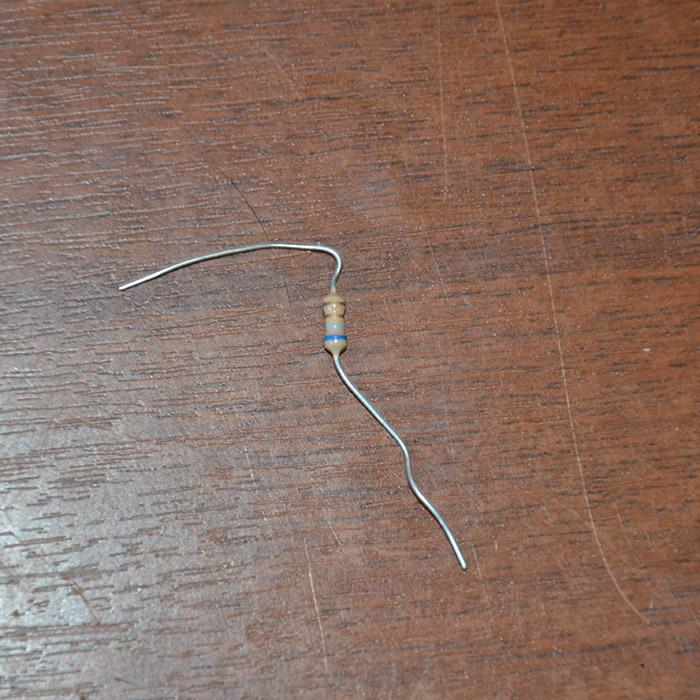resistor: (321, 287, 348, 356)
